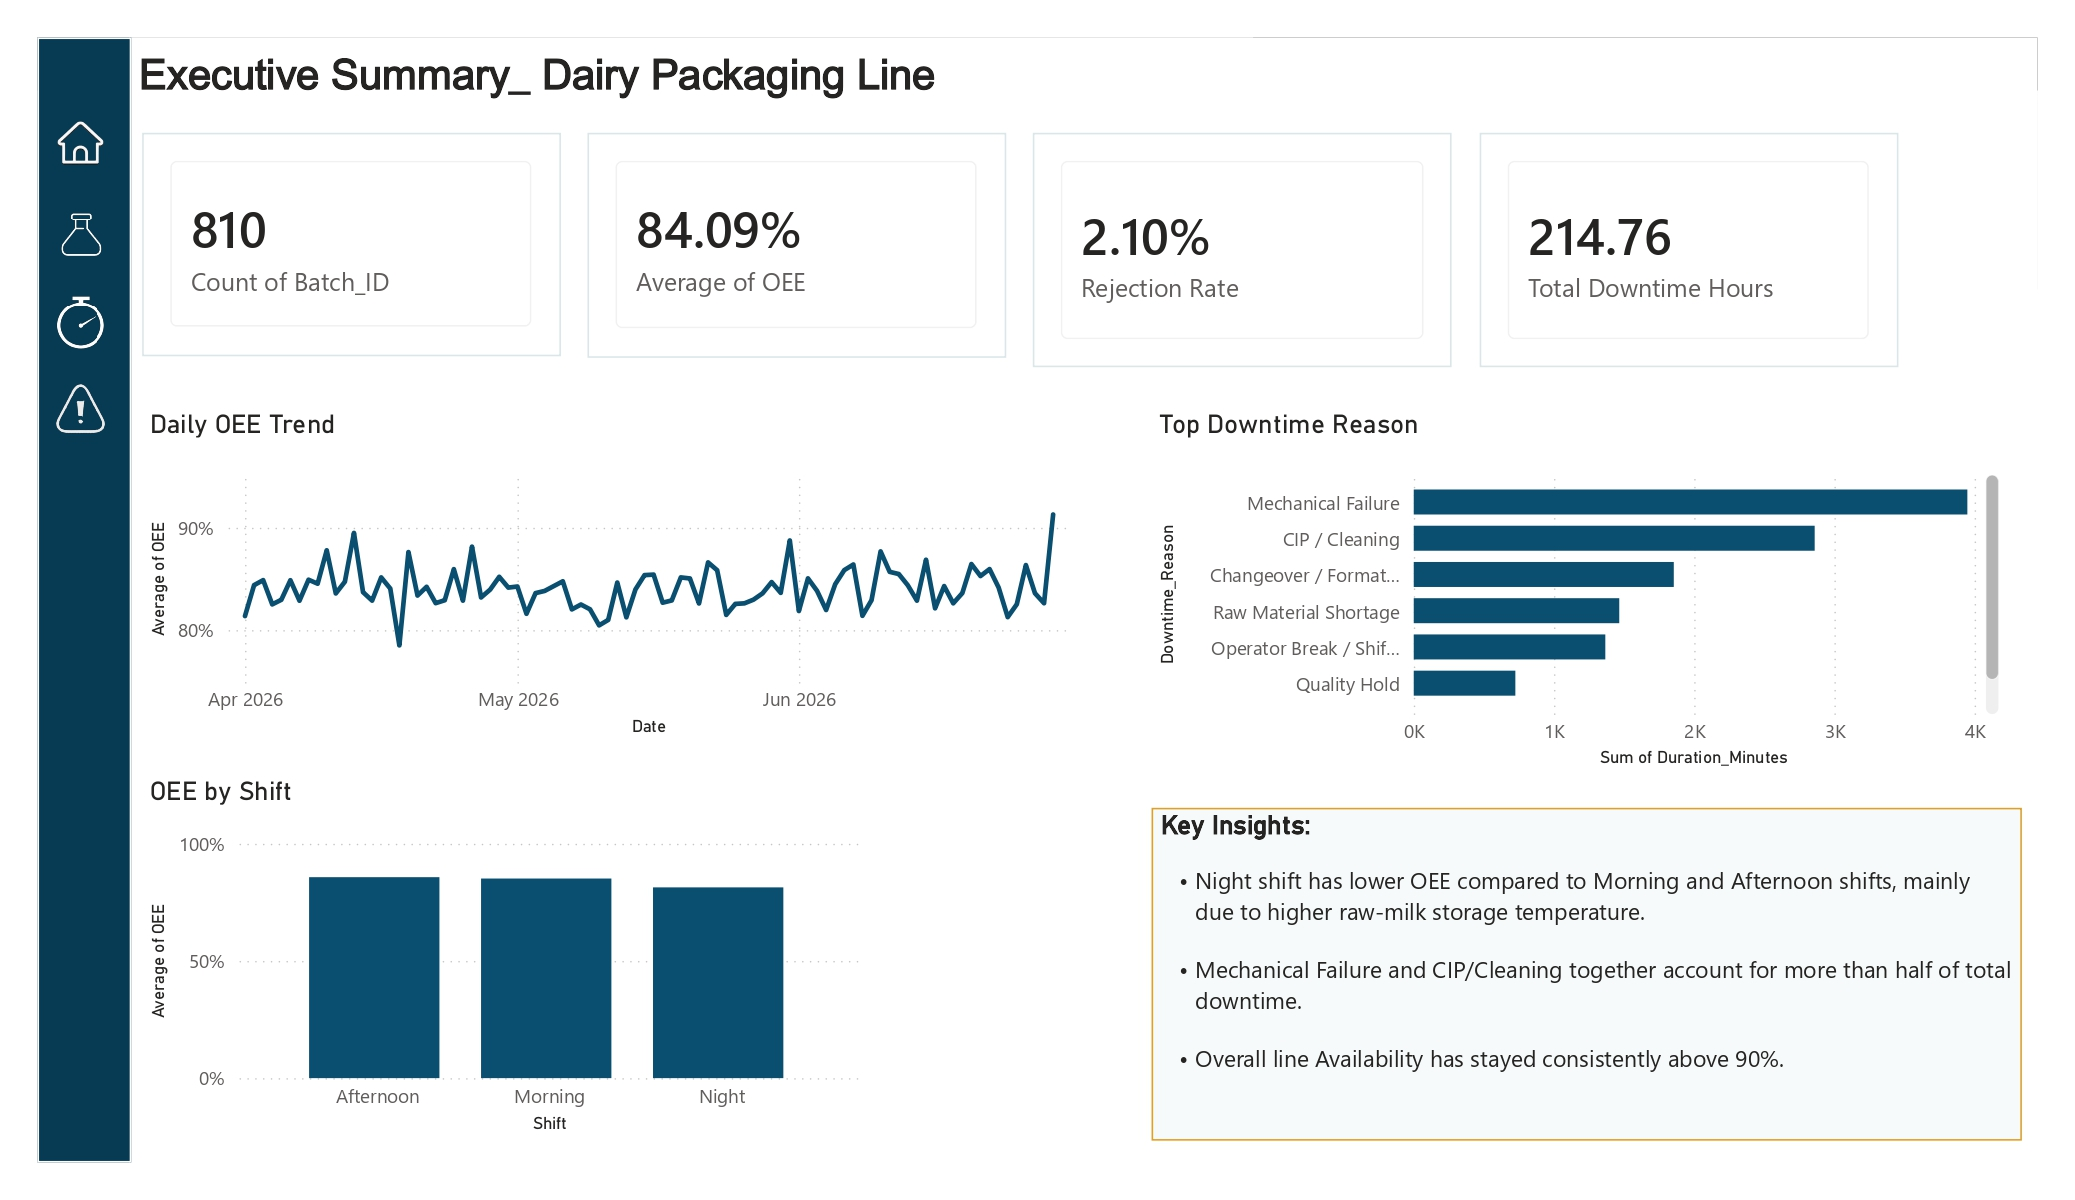

Layout of this report page (visuals, bound fields, positions):
{"tool":"powerbi","page":{"name":"Executive Summary","canvas":[1280,720],"ordinal":0},"visuals":[{"type":"cardVisual","title":"Overall OEE","fields":{"Data":["Count(Fact_QC.Batch_ID)"]},"box":[67,61,267.6,142.7],"z":0},{"type":"cardVisual","title":"First Pass Yield","fields":{"Data":["Avg(Fact_Production.OEE)"]},"box":[352.2,61,267.6,143.8],"z":1000},{"type":"lineChart","title":"Daily OEE Trend","fields":{"Category":["Fact_Production.Date"],"Y":["Avg(Fact_Production.OEE)"]},"box":[67,237,611.8,215.1],"z":2000},{"type":"clusteredColumnChart","title":"OEE by Shift","fields":{"Category":["Dim_Shift.Shift"],"Y":["Avg(Fact_Production.OEE)"]},"box":[67,472,463.8,234],"z":3000},{"type":"clusteredBarChart","title":"Top Downtime Reason","fields":{"Category":["Fact_Downtime.Downtime_Reason"],"Y":["Sum(Fact_Downtime.Duration_Minutes)"]},"box":[713,237,546.7,235.1],"z":4000},{"type":"textbox","box":[60,0,717.8,50.1],"z":5000},{"type":"cardVisual","title":"Rejection Rate","fields":{"Data":["Fact_QC.Rejection Rate"]},"box":[637.4,61,268,150],"z":6000},{"type":"cardVisual","title":"Total Downtime","fields":{"Data":["Fact_Downtime.Total Downtimee Hours"]},"box":[923,61,267.6,150.1],"z":7000},{"type":"textbox","title":"Key Insights: ","box":[713,493,557,213],"z":8000},{"type":"shape","box":[0,0,60,720.2],"z":9000},{"type":"image","box":[10,50,35,35],"z":10000},{"type":"image","box":[8,105,40,40],"z":11000},{"type":"image","box":[10,220,35,35],"z":12000},{"type":"image","box":[7,162,40,40],"z":13000}]}

Visuals, with their boxes on the page's 1280x720 design canvas (x1, y1, x2, y2). These are canvas units, not pixel positions in the 2075x1200 screenshot, which may show the page scaled, cropped or inside an application window:
"Overall OEE" cardVisual: 67:61:335:204
"First Pass Yield" cardVisual: 352:61:620:205
"Daily OEE Trend" lineChart: 67:237:679:452
"OEE by Shift" clusteredColumnChart: 67:472:531:706
"Top Downtime Reason" clusteredBarChart: 713:237:1260:472
textbox: 60:0:778:50
"Rejection Rate" cardVisual: 637:61:905:211
"Total Downtime" cardVisual: 923:61:1191:211
"Key Insights: " textbox: 713:493:1270:706
shape: 0:0:60:720
image: 10:50:45:85
image: 8:105:48:145
image: 10:220:45:255
image: 7:162:47:202
